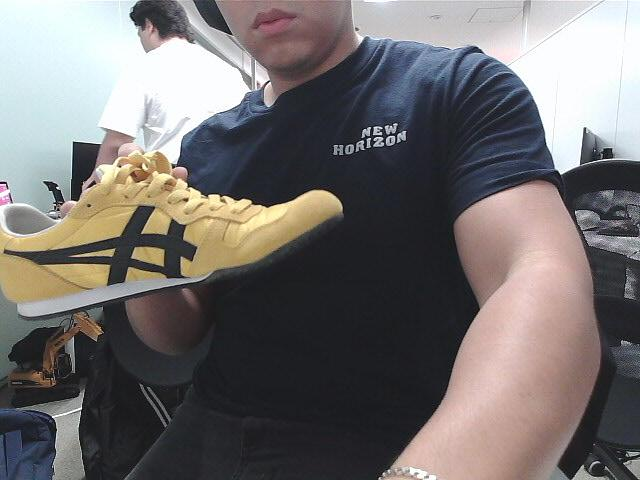Shoes: (0, 150, 356, 320)
